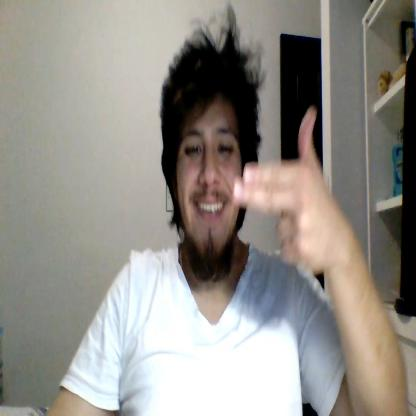H: (233, 106, 331, 271)
